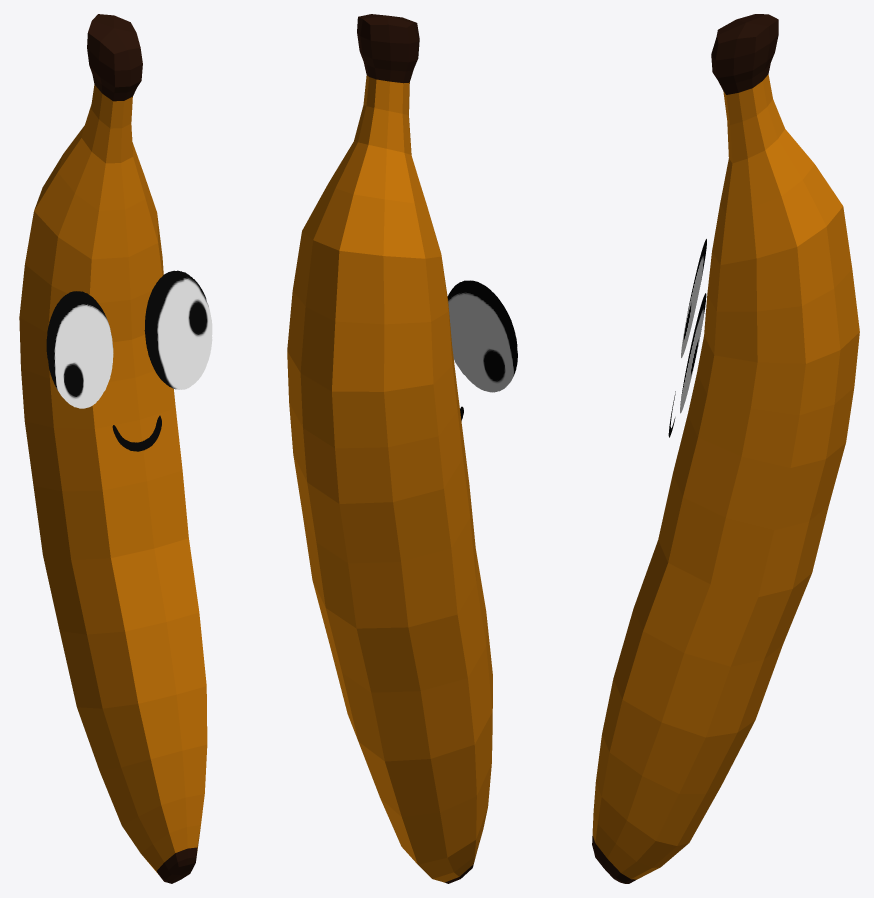
Rendered from Banana_000002.obj.
The picture shows the model from 3 angles, left to right: view 1: azimuth 30°, elevation 25°; view 2: azimuth 150°, elevation 25°; view 3: azimuth 270°, elevation 25°; orthographic projection. The views are drawn at different scales.
Visible parts, largest first — view 1: Banana_to_export.003_Cylinder.004, Plane.004; view 2: Banana_to_export.003_Cylinder.004, Plane.004; view 3: Banana_to_export.003_Cylinder.004, Plane.004.
Boxes of the visible parts, bbox=[...] form: Banana_to_export.003_Cylinder.004: bbox=[19, 14, 207, 883]; Plane.004: bbox=[46, 270, 212, 451]; Banana_to_export.003_Cylinder.004: bbox=[287, 14, 492, 883]; Plane.004: bbox=[447, 280, 517, 420]; Banana_to_export.003_Cylinder.004: bbox=[592, 14, 859, 883]; Plane.004: bbox=[668, 239, 706, 437].
Size of the model in its own units: 0.217 by 0.8249 by 0.2318.
